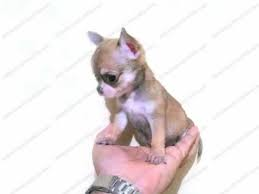chihuahua: (69, 23, 212, 171)
